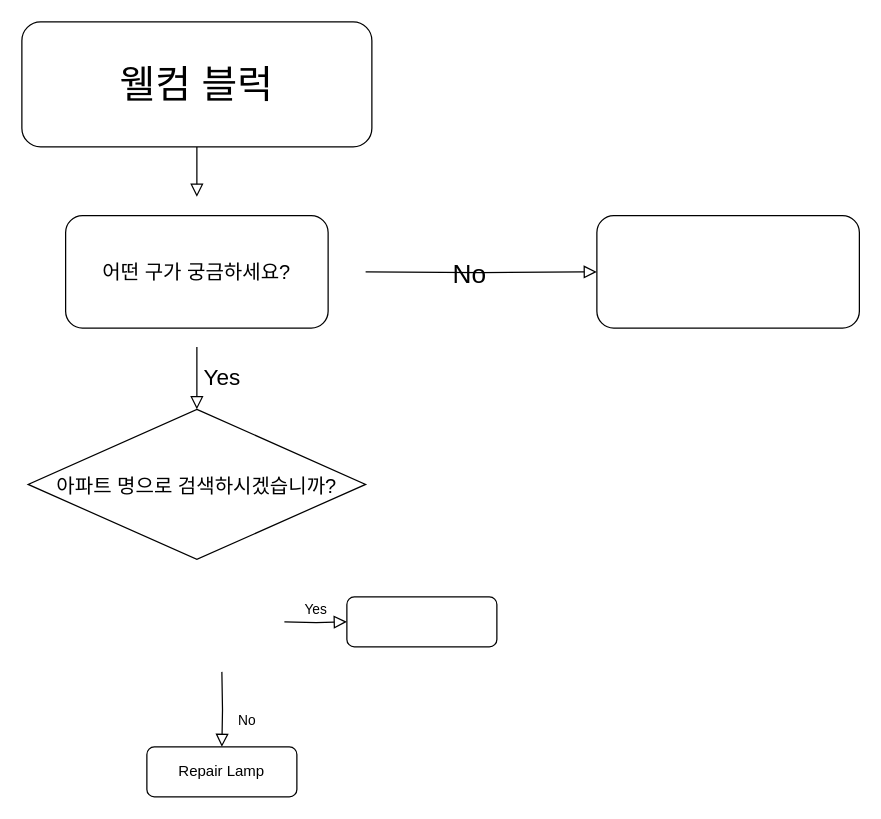
The diagram is 881 pixels wide and 819 high, and some of its shapes have lost their labels. The box of each missing label's shape, as (x1, y1, x2, y2) in pixels:
Replace Bulb: (346, 596, 497, 647)
구로 검색: (596, 214, 859, 328)
